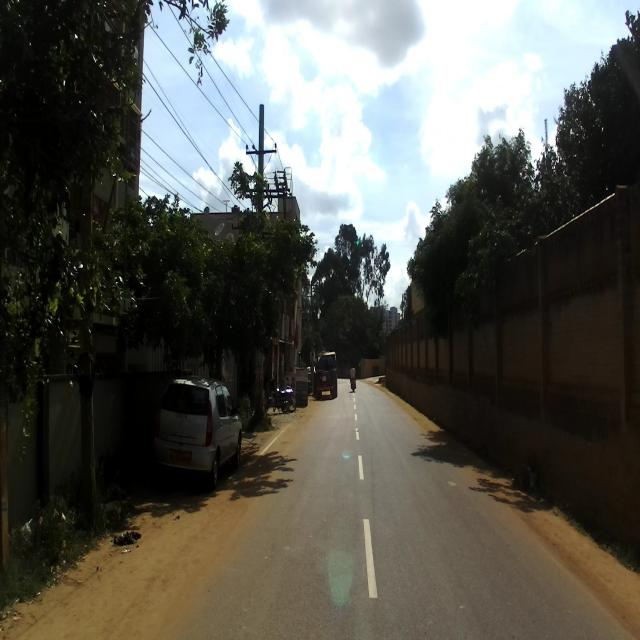car: (154, 374, 242, 495)
